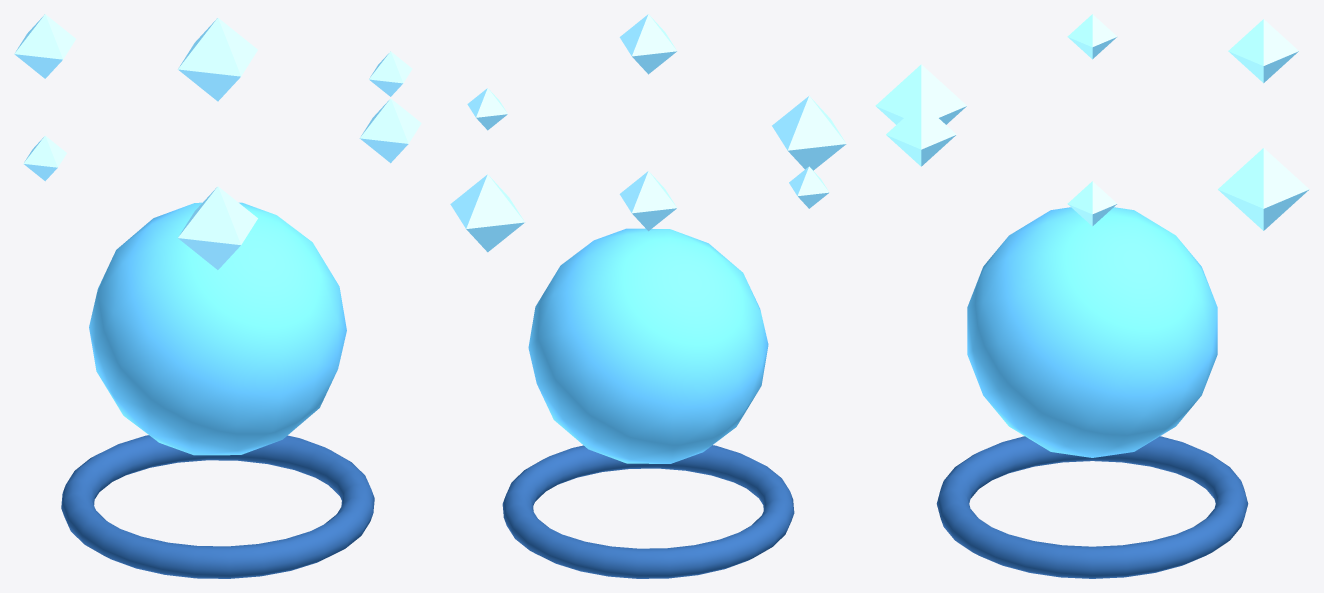
The model's file is jewel_drone.glb.
3 views of the same model, side by side, from view 1: azimuth 30°, elevation 25°; view 2: azimuth 150°, elevation 25°; view 3: azimuth 270°, elevation 25° (orthographic). The views are drawn at different scales.
Visible parts, largest first — view 1: core, object 2; view 2: core, object 2; view 3: core, object 2.
Boxes of the visible parts, left/top/right/bottom form: core: left=14, top=14, right=421, bottom=455; object 2: left=61, top=435, right=374, bottom=578; core: left=450, top=14, right=846, bottom=463; object 2: left=502, top=445, right=794, bottom=578; core: left=875, top=14, right=1309, bottom=457; object 2: left=936, top=436, right=1248, bottom=578.
Bounding box in the file's own units: 1.92 × 2.17 × 1.87.
